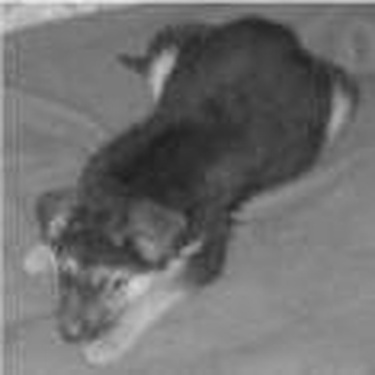dog: (16, 8, 357, 363)
